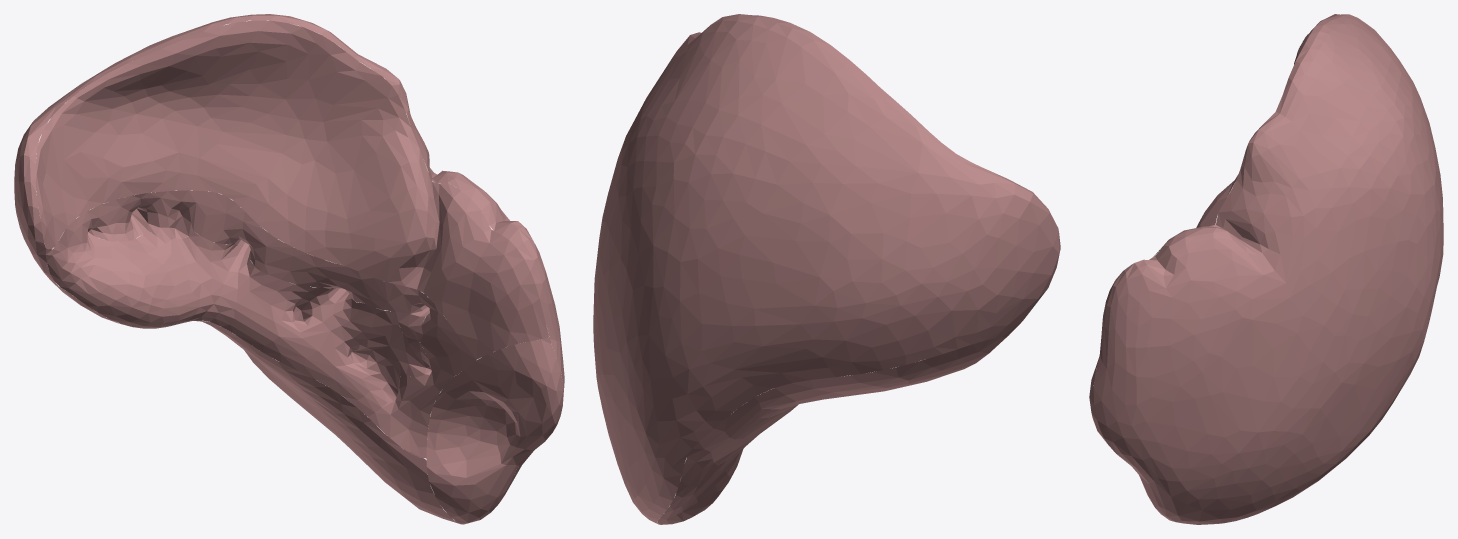
File: VH_M_Spleen_0.2.glb
The picture shows the model from 3 angles, left to right: view 1: azimuth 30°, elevation 25°; view 2: azimuth 150°, elevation 25°; view 3: azimuth 270°, elevation 25°; orthographic projection. The views are drawn at different scales.
Parts seen in each view (by area): view 1: VH_M_gastric_surface_of_spleen, VH_M_hilum_of_spleen, VH_M_colic_surface_of_spleen, VH_M_diaphragmatic_surface_of_spleen, VH_M_renal_surface_of_spleen; view 2: VH_M_diaphragmatic_surface_of_spleen, VH_M_renal_surface_of_spleen; view 3: VH_M_diaphragmatic_surface_of_spleen, VH_M_gastric_surface_of_spleen.
Part boxes in pixels (<box>): VH_M_gastric_surface_of_spleen: <box>35,20,548,359</box>; VH_M_hilum_of_spleen: <box>45,190,476,458</box>; VH_M_colic_surface_of_spleen: <box>426,337,563,524</box>; VH_M_diaphragmatic_surface_of_spleen: <box>14,14,564,501</box>; VH_M_renal_surface_of_spleen: <box>50,280,461,524</box>; VH_M_diaphragmatic_surface_of_spleen: <box>593,14,1060,523</box>; VH_M_renal_surface_of_spleen: <box>658,336,1007,524</box>; VH_M_diaphragmatic_surface_of_spleen: <box>1093,14,1443,524</box>; VH_M_gastric_surface_of_spleen: <box>1149,28,1313,259</box>.
Size of the model in its own units: 0.1104 by 0.1186 by 0.0888.
